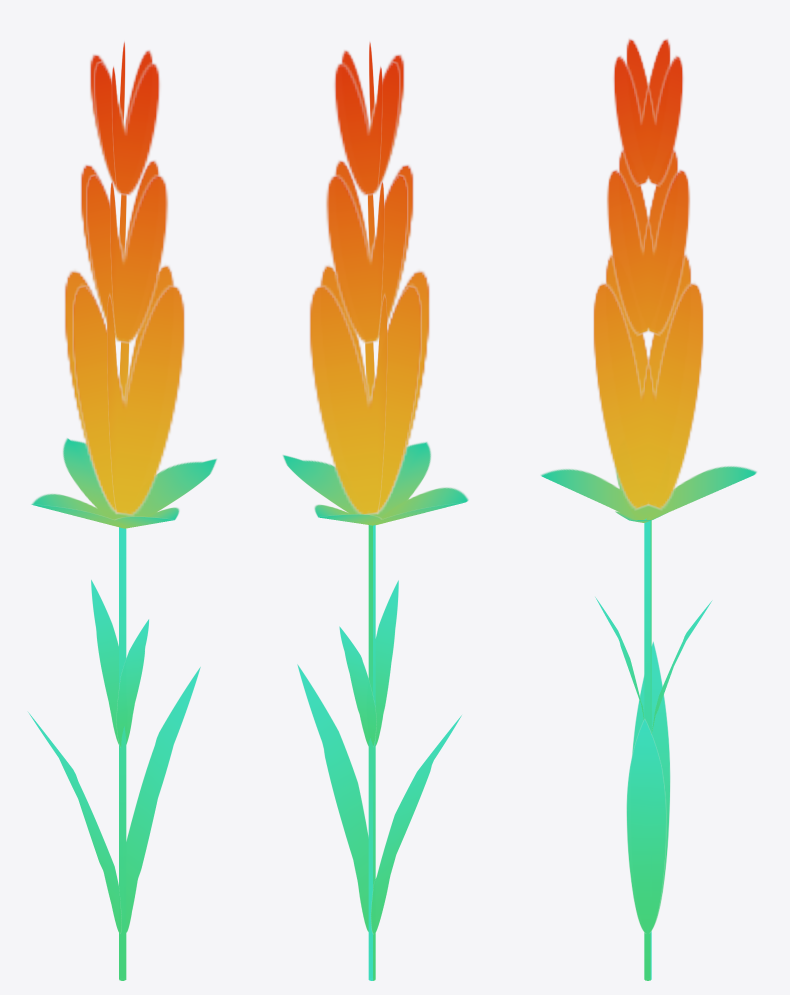
Rendered from Flowers_n03_15.glb.
3 renders of one model, left to right at view 1: azimuth 30°, elevation 25°; view 2: azimuth 150°, elevation 25°; view 3: azimuth 270°, elevation 25°, orthographic.
Parts seen in each view (by area): view 1: polySurface580; view 2: polySurface580; view 3: polySurface580.
Boxes of the visible parts, left/top/right/bottom form: polySurface580: left=27, top=41, right=217, bottom=980; polySurface580: left=282, top=41, right=468, bottom=980; polySurface580: left=540, top=38, right=757, bottom=980.
Bounding box in the file's own units: 0.2859 × 1.18 × 0.2858.
1 material, 1 textured.
